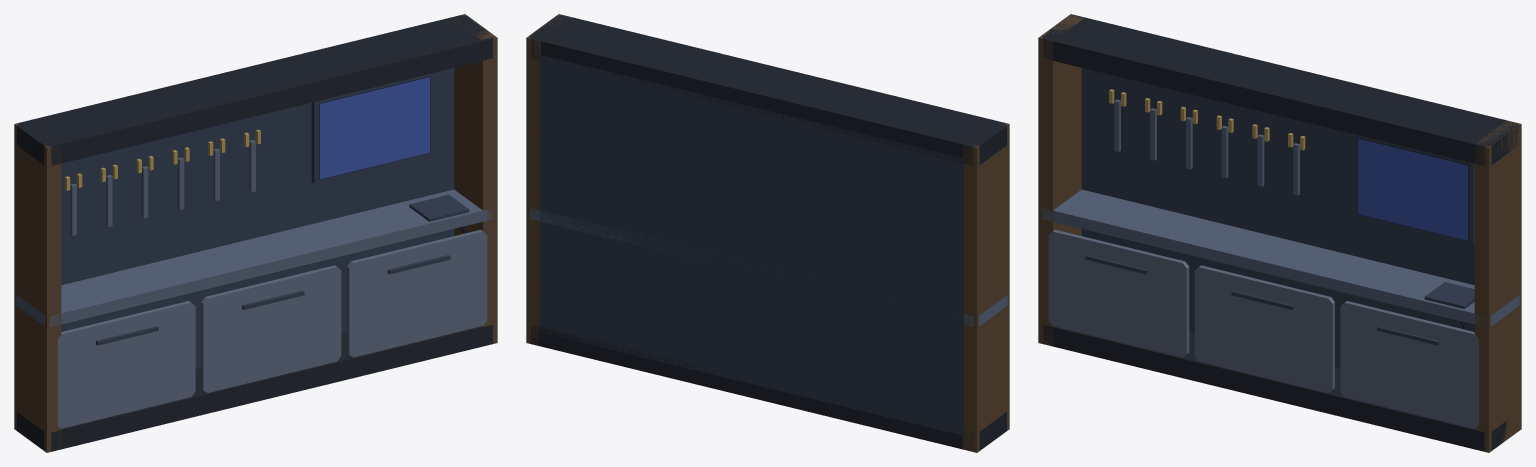
The model's file is res_garage_tool_wall.glb.
3 views of the same model, side by side, from view 1: azimuth 30°, elevation 25°; view 2: azimuth 150°, elevation 25°; view 3: azimuth 330°, elevation 25° (orthographic).
Visible parts, largest first — view 1: charge_socket, drawer_front, cabinet_cap, walnut_stile, diagnostic_bench, print, spanner_jaw; view 2: charge_socket, cabinet_cap, walnut_stile, diagnostic_bench; view 3: charge_socket, drawer_front, cabinet_cap, walnut_stile, diagnostic_bench, print, spanner_jaw.
Part boxes in pixels (x1,y1,x2,y2): charge_socket: (61,68,469,368); drawer_front: (57,229,487,428); cabinet_cap: (17,15,493,451); walnut_stile: (14,14,497,452); diagnostic_bench: (16,140,494,327); print: (320,77,429,179); spanner_jaw: (65,129,260,190); charge_socket: (539,55,963,435); cabinet_cap: (529,15,1006,451); walnut_stile: (526,14,1009,452); diagnostic_bench: (529,208,1007,326); charge_socket: (1081,68,1474,368); drawer_front: (1048,229,1478,428); cabinet_cap: (1042,15,1518,451); walnut_stile: (1038,14,1521,452); diagnostic_bench: (1041,99,1519,326); print: (1358,138,1467,240); spanner_jaw: (1109,89,1305,150).
Bounding box in the file's own units: 3.4 × 2.2 × 0.45.
